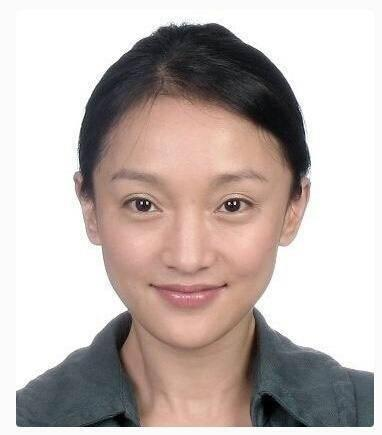unmask: (91, 122, 290, 336)
